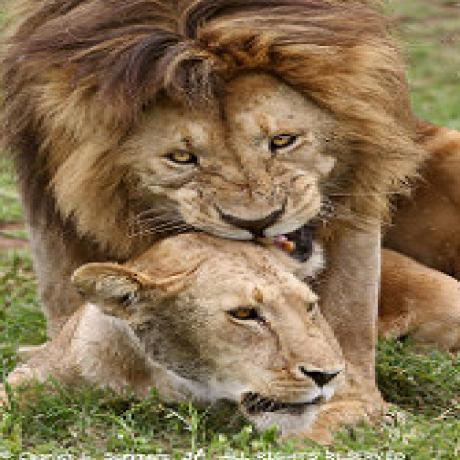Lion: (0, 0, 460, 309), (3, 231, 348, 429)
